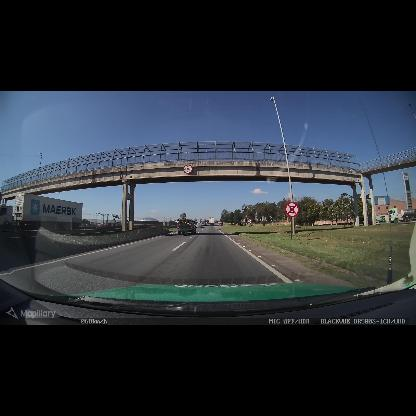R-15: (183, 165, 193, 174)
R-6c: (285, 202, 299, 217)
